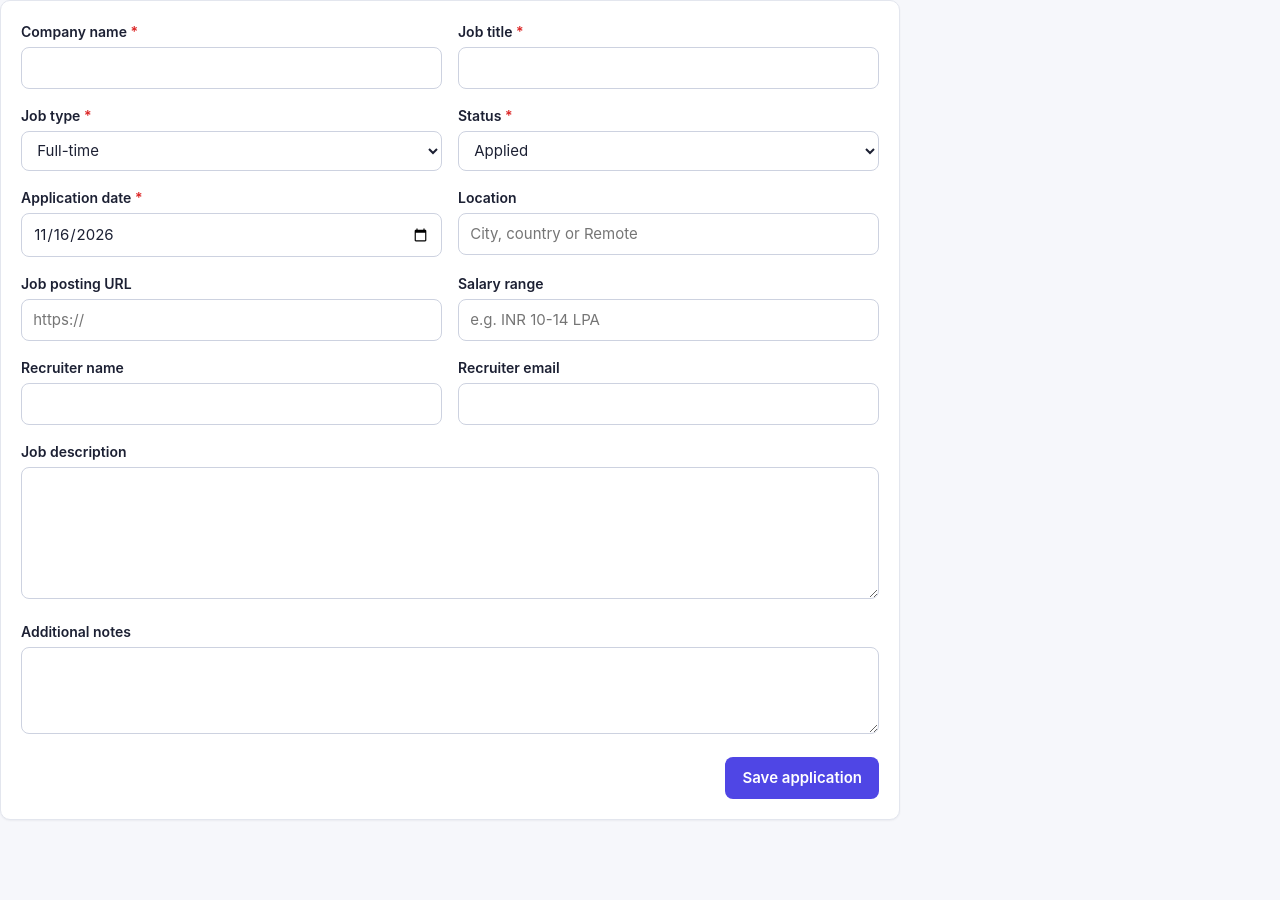
it: ApplicationForm › validates the job URL and recruiter email
The image size is (1280, 900).
Step 1. Type "Acme" into the field labelled "Company name" → [232, 68], box [21,47,442,89]
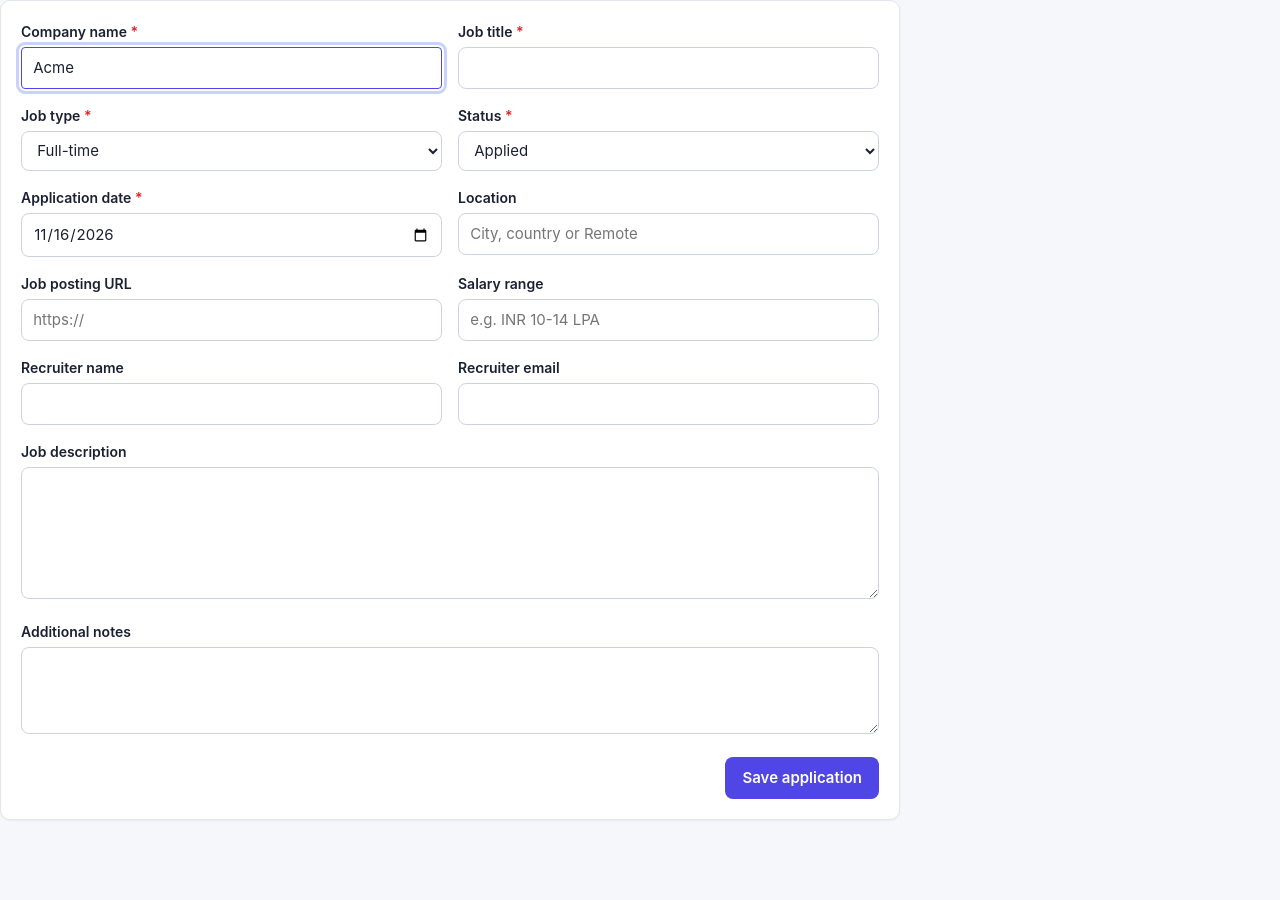
Step 2. Type "Engineer" into the field labelled "Job title" → [668, 68], box [458,47,879,89]
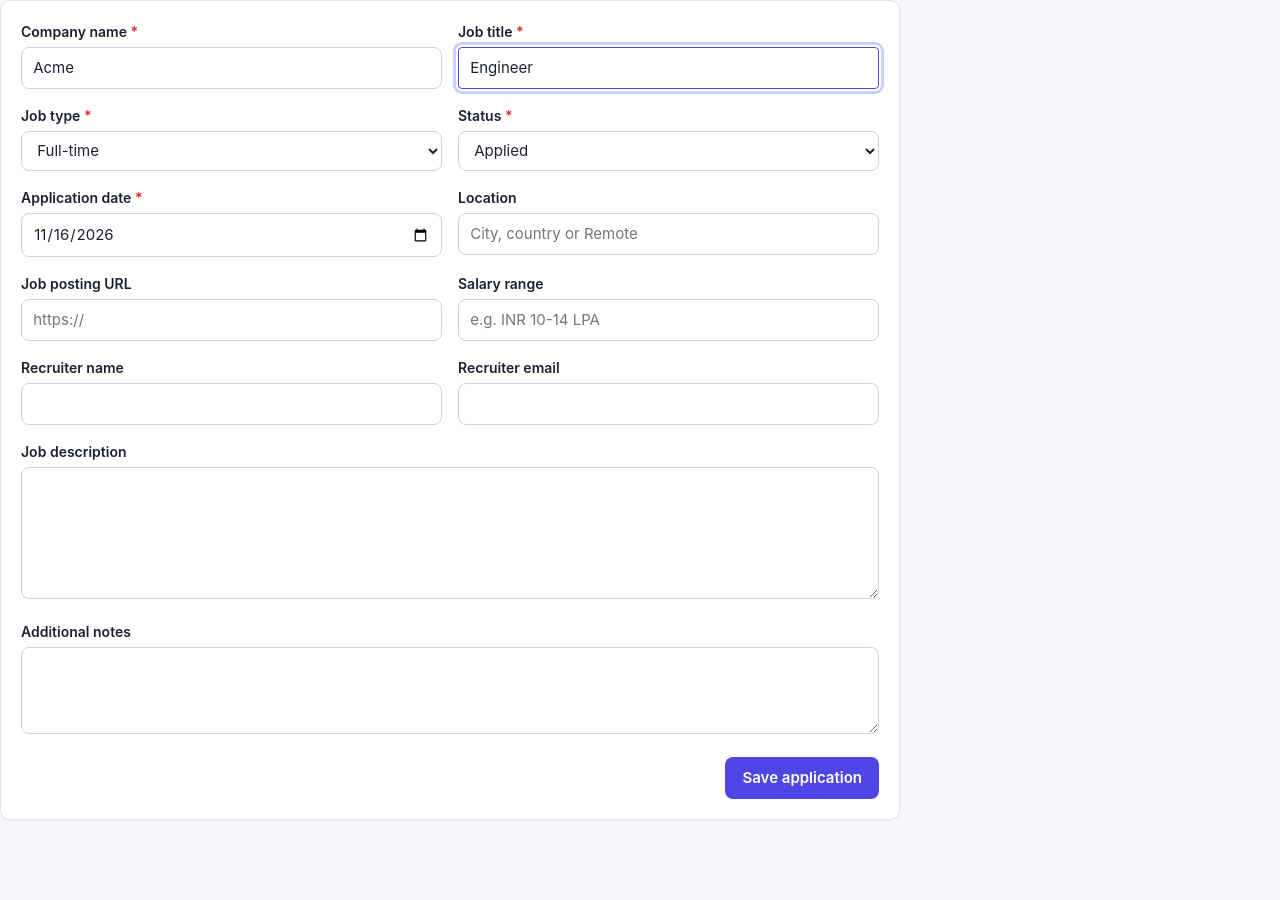
Step 3. Type "ftp://example.com" into the field labelled "Job posting URL" → [232, 320], box [21,299,442,341]
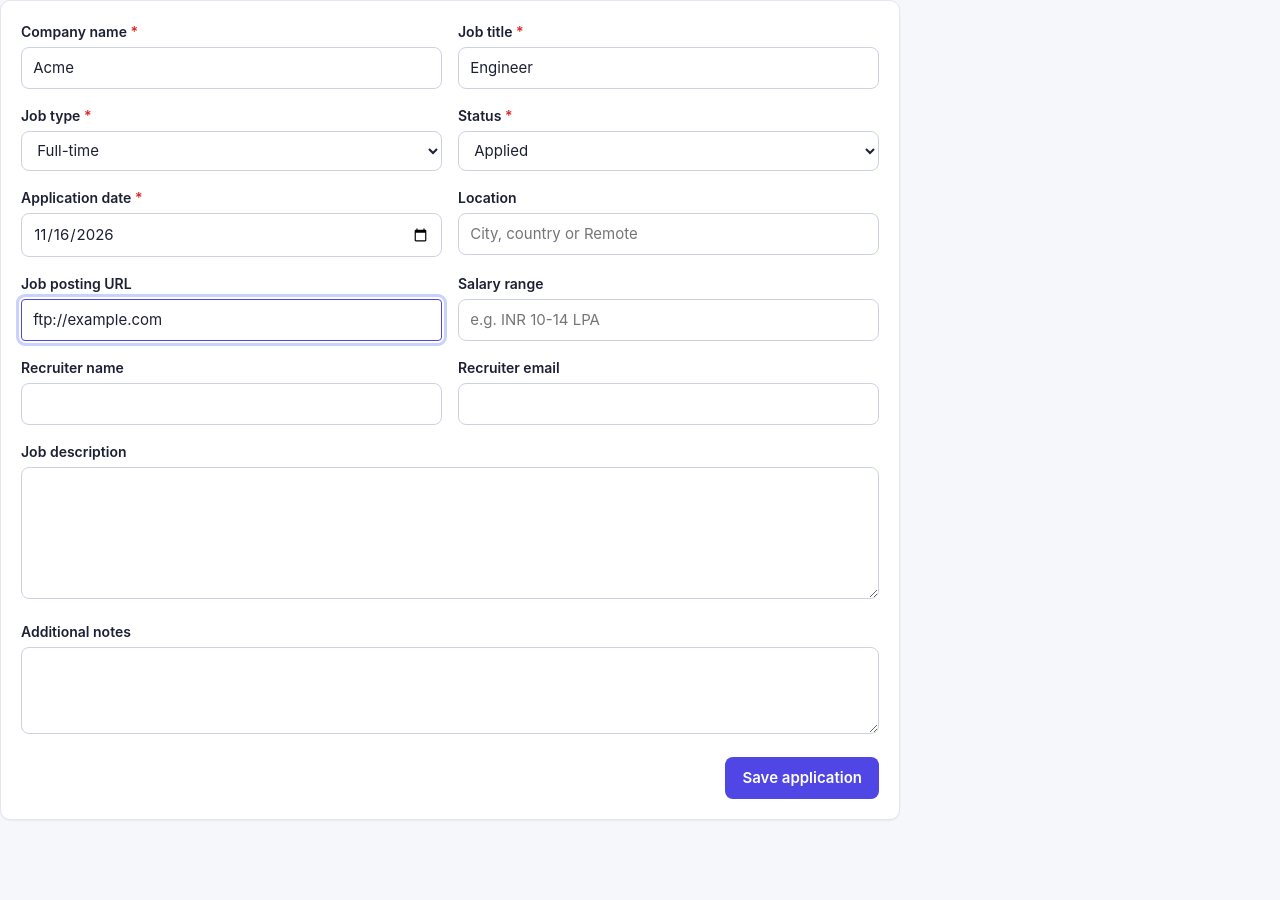
Step 4. Type "nope" into the field labelled "Recruiter email" → [668, 404], box [458,383,879,425]
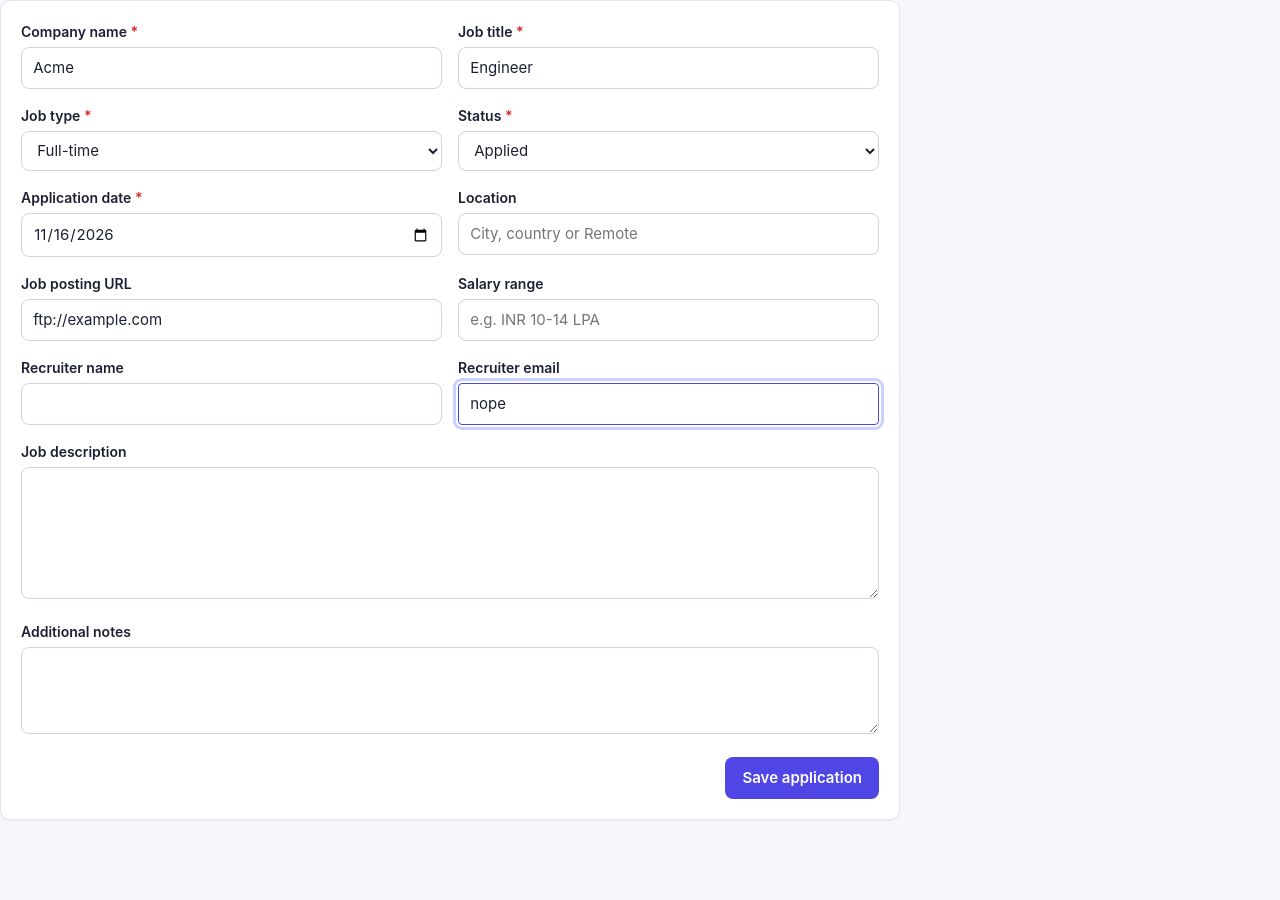
Step 5. Click the button "Save application" → [802, 778], box [726,757,879,799]
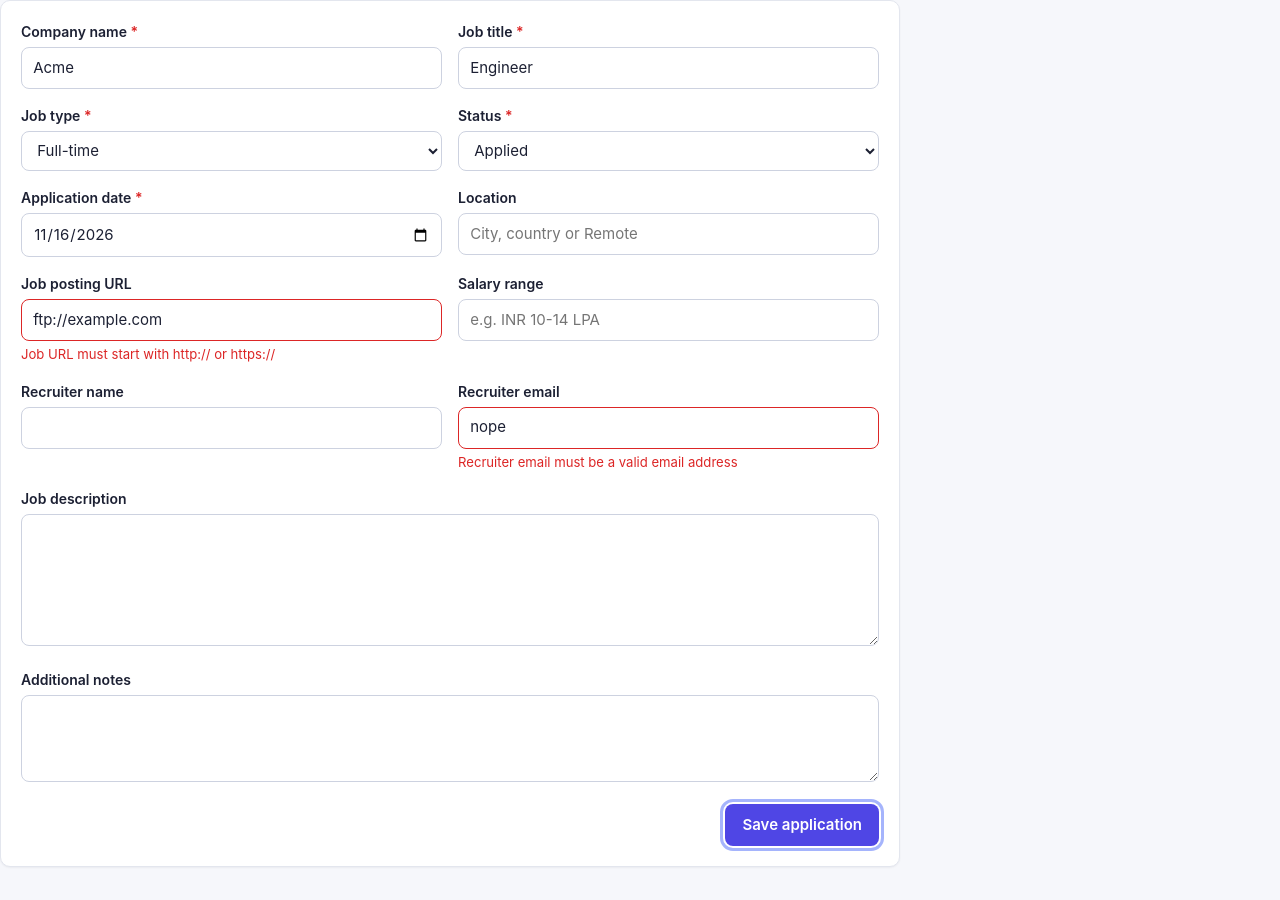
Now the text "Job URL must start with http:// or https://" is shown, box [21,346,275,362]
Now the text "Recruiter email must be a valid email address" is shown, box [458,454,738,470]
